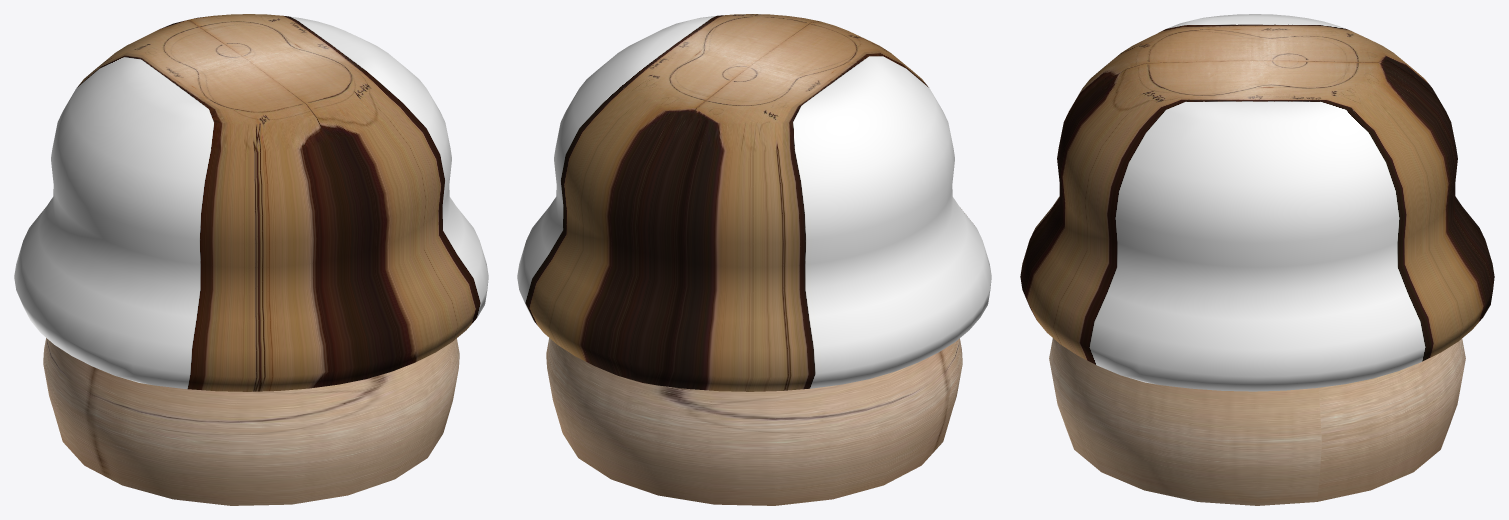
The model's file is house.fbx.
The picture shows the model from 3 angles, left to right: view 1: azimuth 30°, elevation 25°; view 2: azimuth 150°, elevation 25°; view 3: azimuth 270°, elevation 25°; orthographic projection.
Parts seen in each view (by area): view 1: pDisc2, pCylinder1; view 2: pDisc2, pCylinder1; view 3: pDisc2, pCylinder1.
Part boxes in pixels (bbox=[...]): pDisc2: bbox=[14, 14, 488, 391]; pCylinder1: bbox=[43, 338, 459, 505]; pDisc2: bbox=[517, 14, 991, 391]; pCylinder1: bbox=[546, 338, 962, 505]; pDisc2: bbox=[1020, 14, 1494, 391]; pCylinder1: bbox=[1049, 338, 1465, 505].
Bounding box in the file's own units: 12.57 × 10.62 × 12.57.
1 material, 1 textured.
